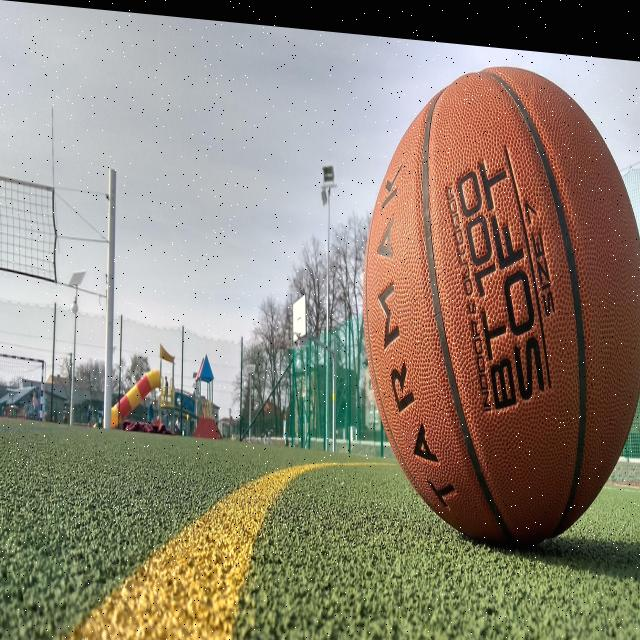Basketball: (357, 49, 637, 558)
